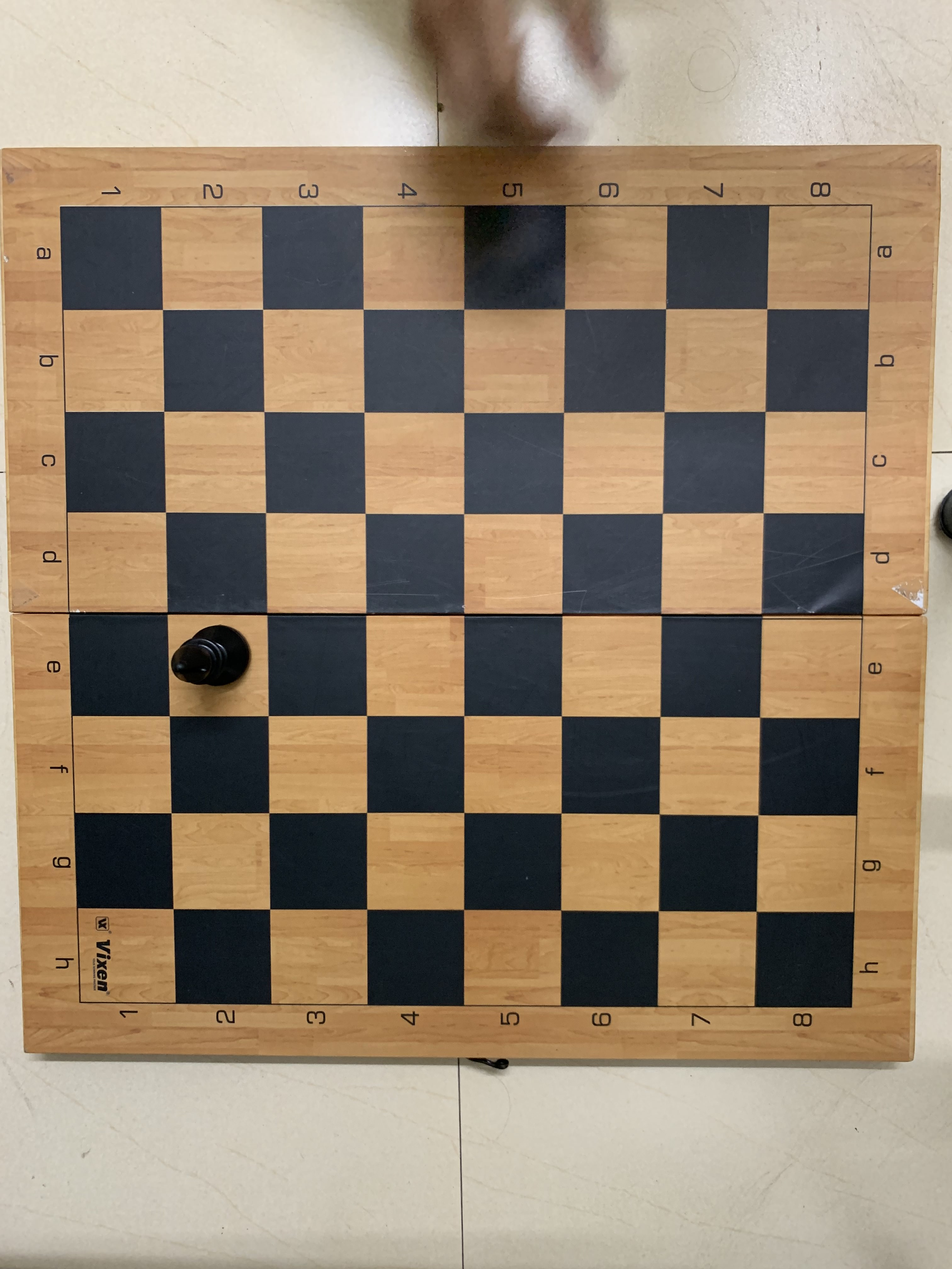black_bishop: (167, 613, 277, 712)
